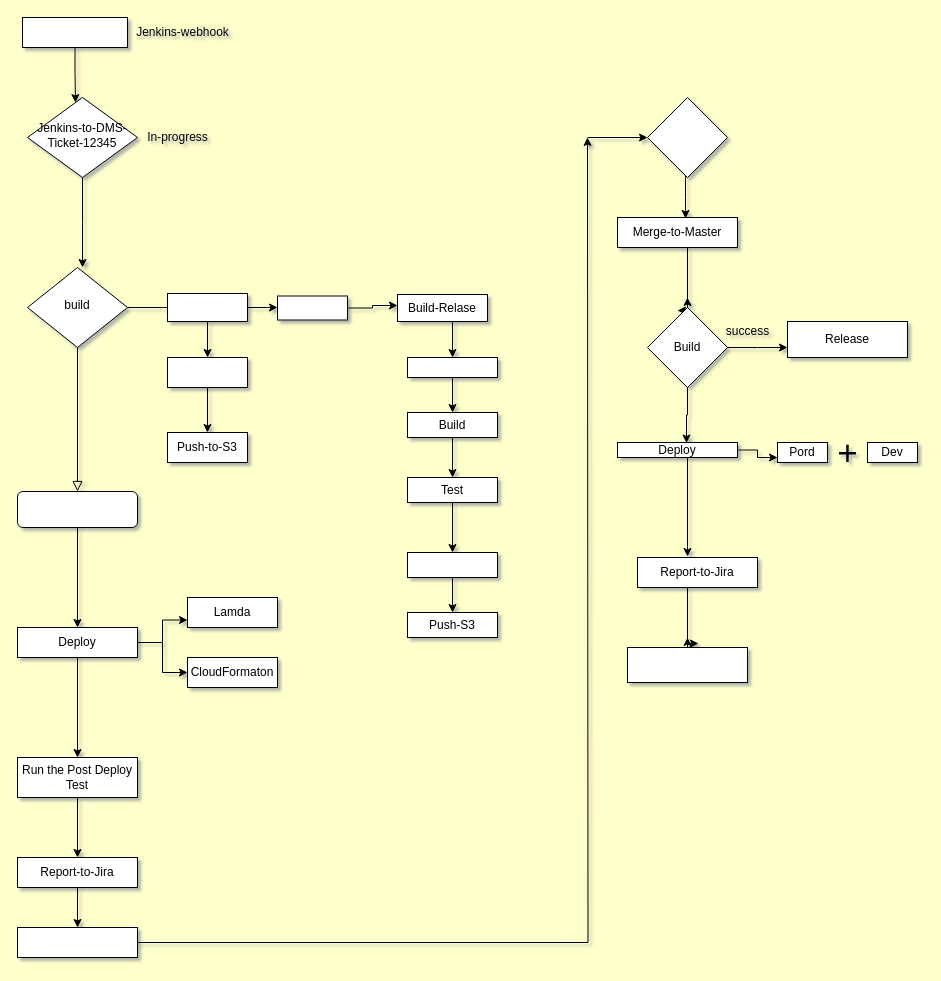
Some shapes in this 941 by 981 pixel diagram are drawn without their labels. The shapes that lost their labels are listed below. From the top down, each one's centre as x and y in pixels, then its label:
At (x=75, y=32): "Ready-for-Testing".
At (x=687, y=137): "Jenkins webhood-2".
At (x=207, y=307): "Source".
At (x=312, y=307): "S3-Zip".
At (x=207, y=372): "PullGit".
At (x=452, y=367): "Pull-Zip".
At (x=77, y=509): "Run Unit Test".
At (x=452, y=565): "Re-Zip".
At (x=687, y=664): "Move-to-Final-Review".
At (x=77, y=942): "Move-to-Integration".
